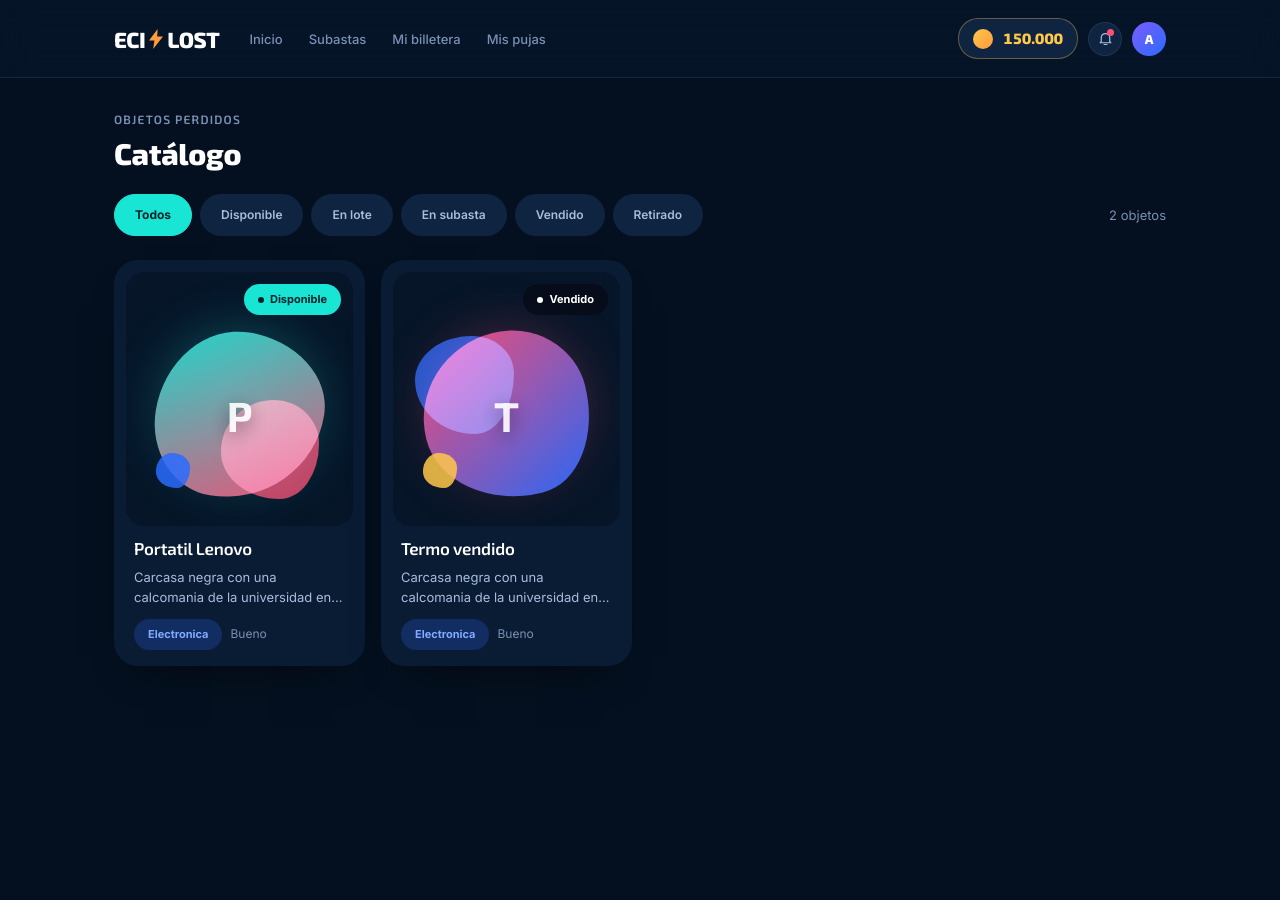
Test: Catalogo › pide al servicio el filtro de estado elegido
Check: the heading "Portatil Lenovo" is shown, box [134,538,252,558]
El filtro son botones de radio de verdad, aunque se vean como capsulas.
Click the radio button labelled "Vendido": (560, 215) [515,194,604,236]
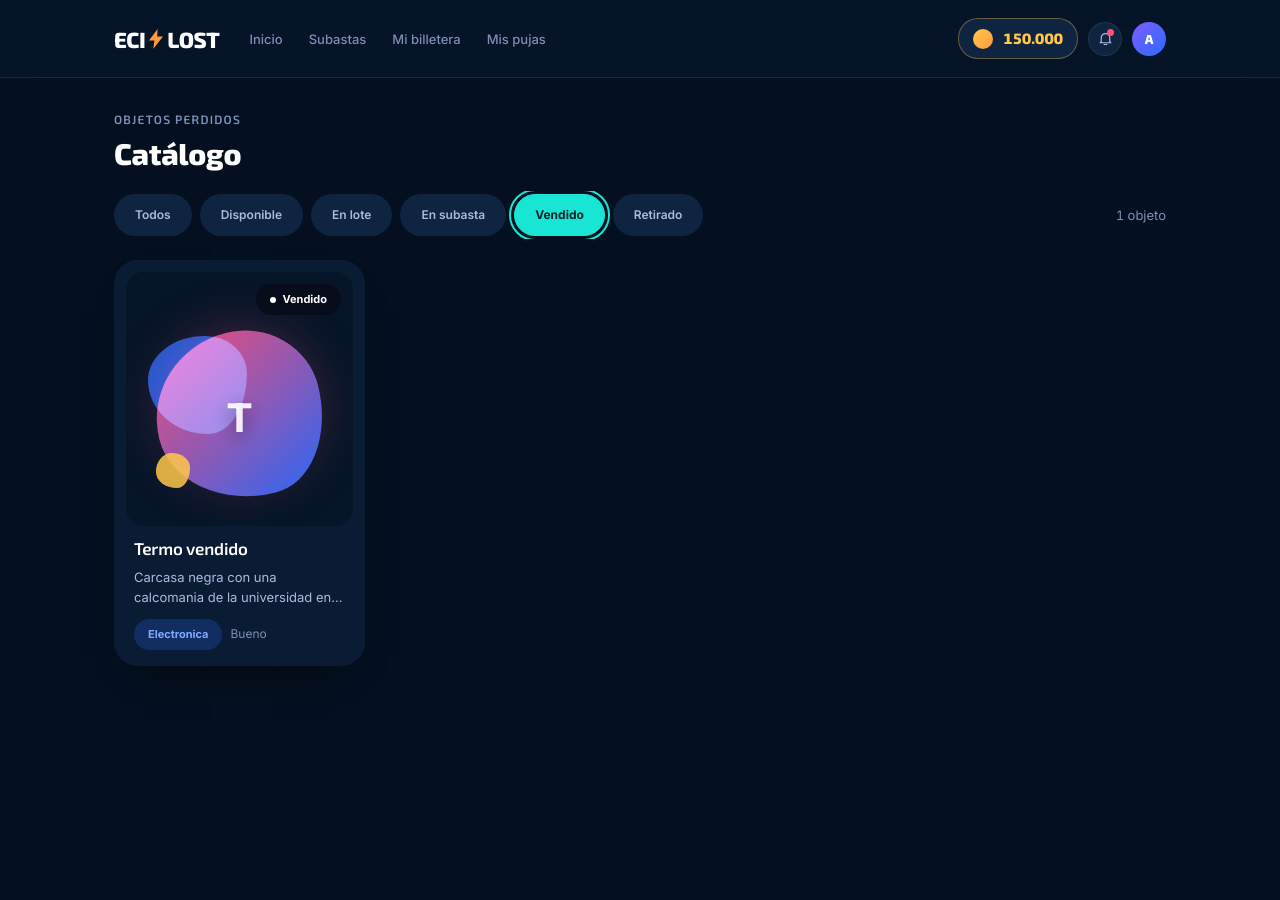
Check: the heading "Termo vendido" is shown, box [134,538,248,558]
Check: the link "Portatil Lenovo" is gone
